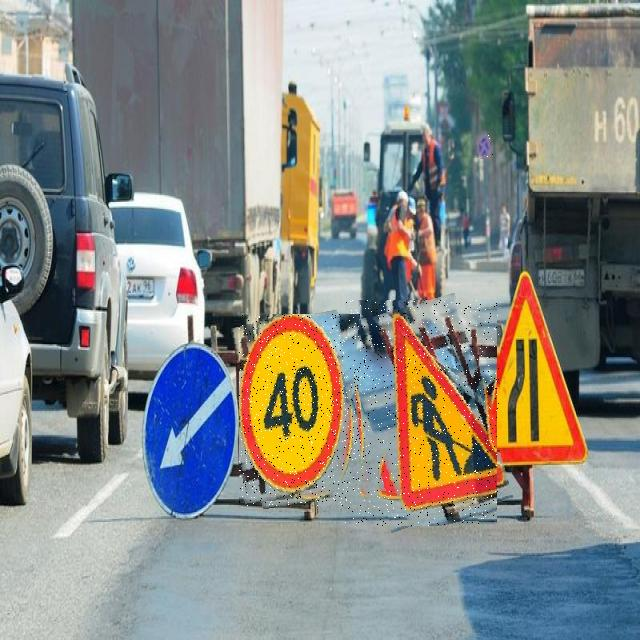no stopping: (477, 132, 493, 159)
roadwork: (346, 300, 500, 526)
speed limit 40: (239, 314, 361, 506)
